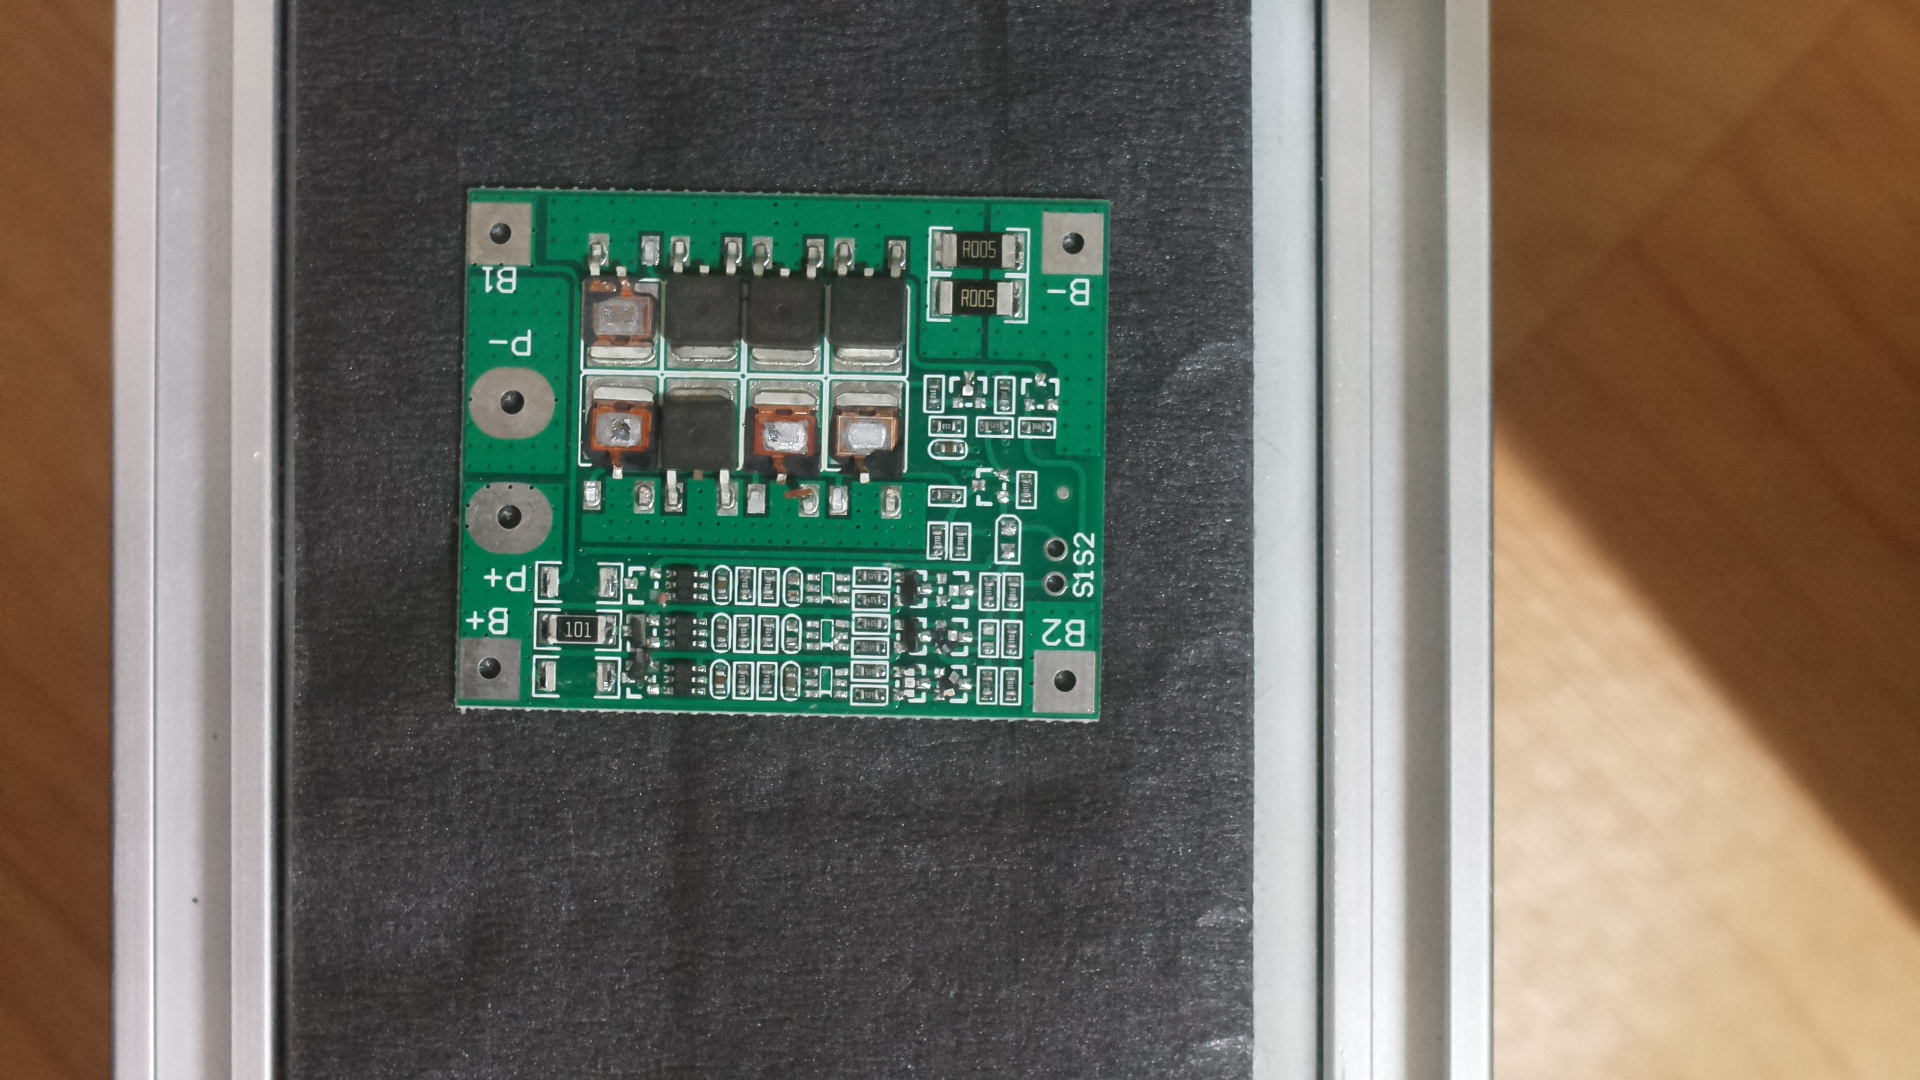C_Missing_part: (443, 165, 1122, 740)
